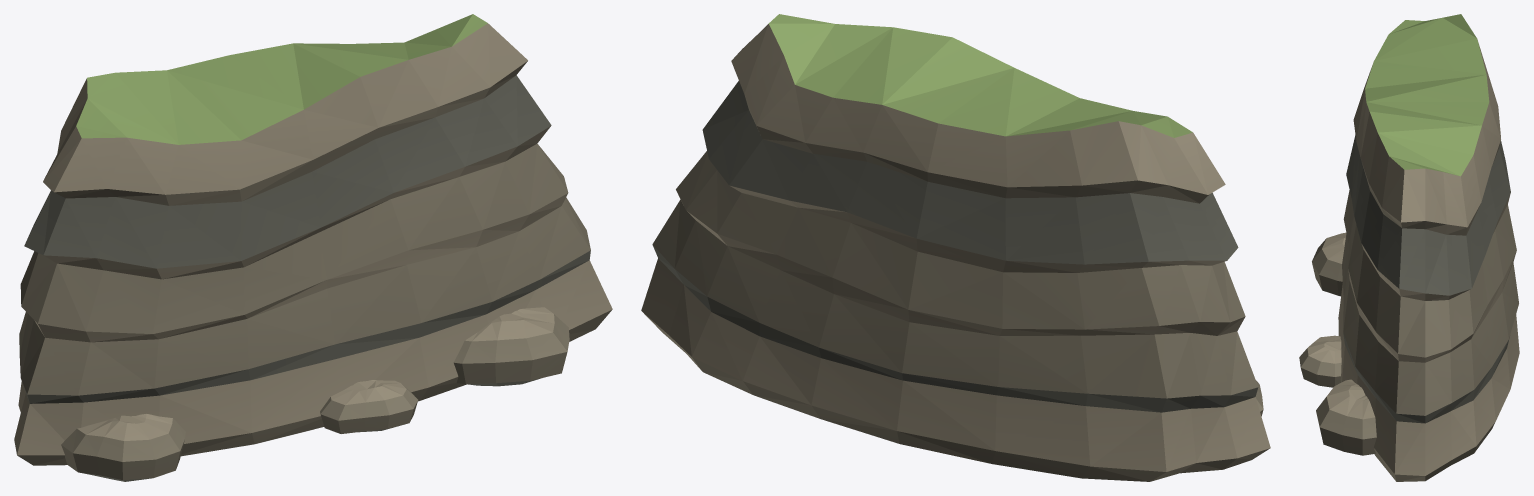
Rendered from Environment_Hills_StrataRockface8m_001.glb.
3 renders of one model, left to right at view 1: azimuth 30°, elevation 25°; view 2: azimuth 150°, elevation 25°; view 3: azimuth 270°, elevation 25°, orthographic. The views are drawn at different scales.
Parts seen in each view (by area): view 1: HL_StrataRockface8m_Body; view 2: HL_StrataRockface8m_Body; view 3: HL_StrataRockface8m_Body.
Part boxes in pixels (x1,y1,x2,y2): HL_StrataRockface8m_Body: [14, 14, 612, 481]; HL_StrataRockface8m_Body: [641, 14, 1270, 481]; HL_StrataRockface8m_Body: [1299, 14, 1519, 481].
Bounding box in the file's own units: 8.2 × 4.42 × 3.17.
